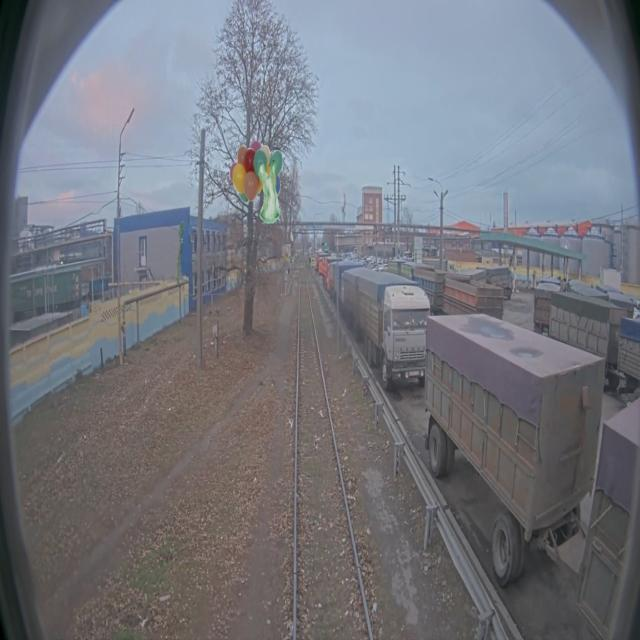balloon: (230, 140, 284, 203)
plastic bag: (258, 160, 280, 223)
